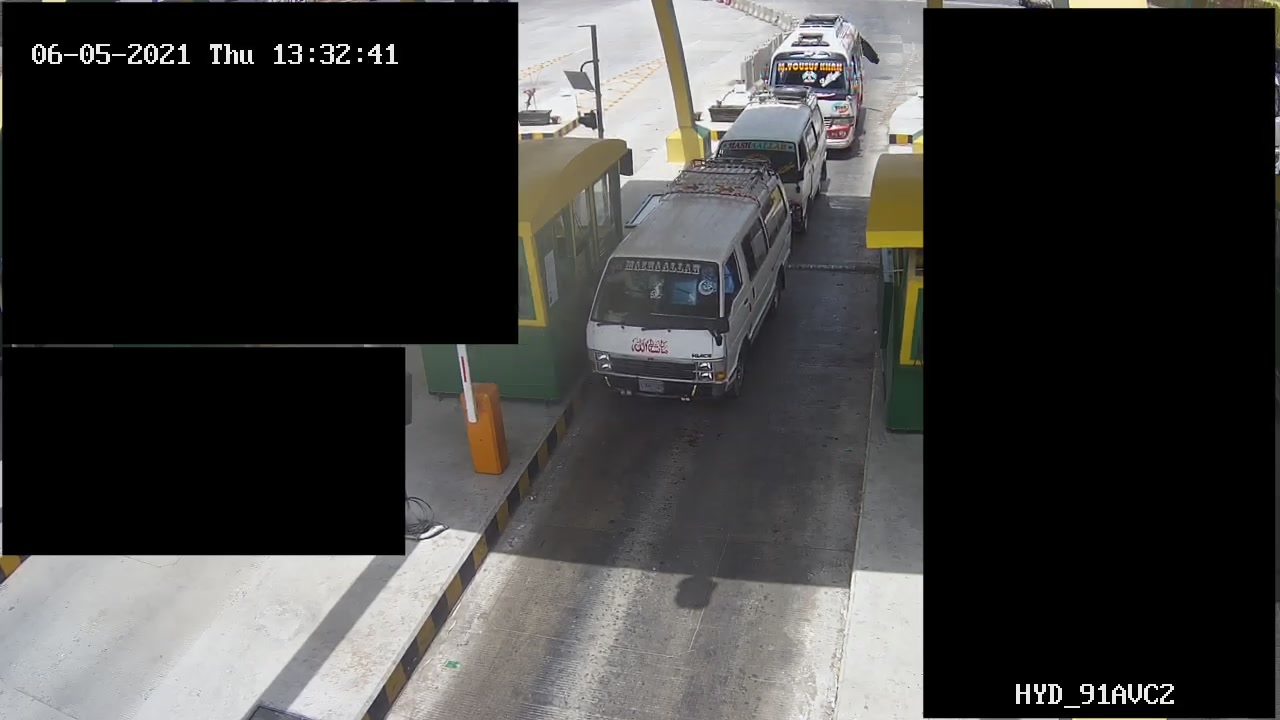F2: (578, 159, 789, 420)
